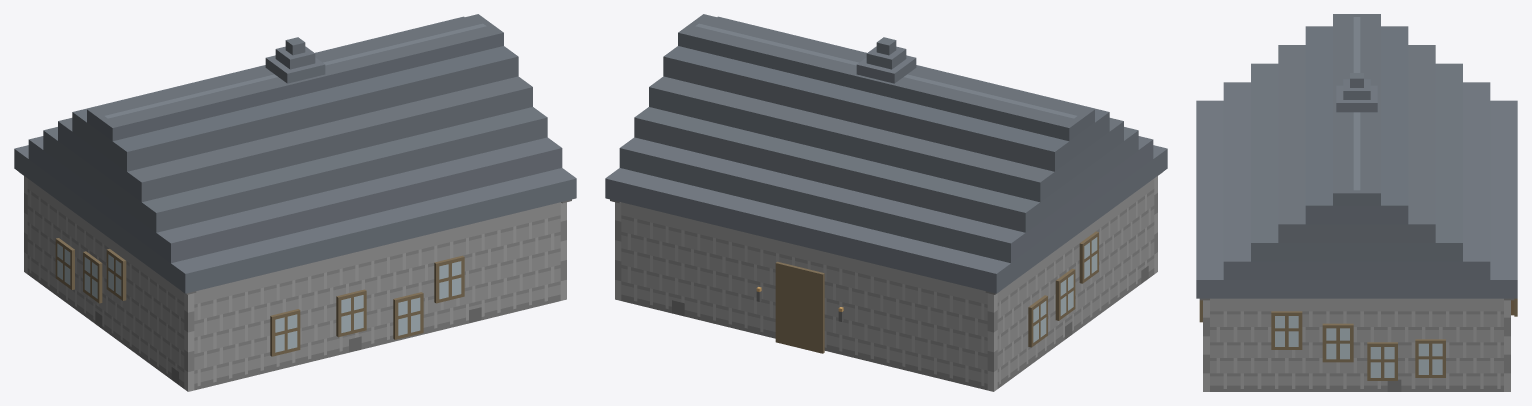
Rendered from gran_catedral_01.glb.
The picture shows the model from 3 angles, left to right: view 1: azimuth 30°, elevation 25°; view 2: azimuth 150°, elevation 25°; view 3: azimuth 270°, elevation 25°; orthographic projection. The views are drawn at different scales.
Visible parts, largest first — view 1: gran_catedral_01; view 2: gran_catedral_01; view 3: gran_catedral_01.
Part boxes in pixels (left/top/right/bottom): gran_catedral_01: left=14, top=14, right=576, bottom=391; gran_catedral_01: left=605, top=14, right=1167, bottom=391; gran_catedral_01: left=1196, top=14, right=1517, bottom=391.
Bounding box in the file's own units: 12.4 × 7.4 × 9.4.
